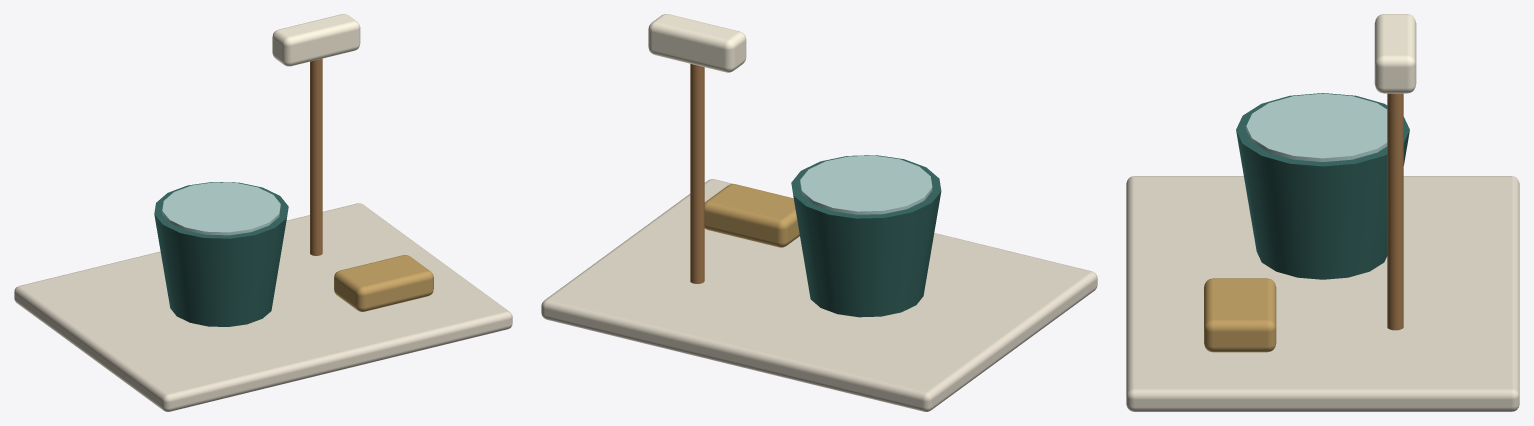
Rendered from work-cleaning.glb.
3 views of the same model, side by side, from view 1: azimuth 30°, elevation 25°; view 2: azimuth 150°, elevation 25°; view 3: azimuth 270°, elevation 25° (orthographic). The views are drawn at different scales.
Visible parts, largest first — view 1: display-plinth, wash-bucket, water, sponge, brush-head, brush-handle; view 2: display-plinth, wash-bucket, water, sponge, brush-head, brush-handle; view 3: display-plinth, wash-bucket, water, sponge, brush-handle, brush-head.
Boxes of the visible parts, box(x1,y1,x2,y2) form: display-plinth: box(14, 203, 512, 411); wash-bucket: box(154, 182, 288, 326); water: box(162, 182, 280, 235); sponge: box(334, 255, 433, 311); brush-head: box(272, 14, 360, 66); brush-handle: box(310, 58, 322, 255); display-plinth: box(541, 179, 1097, 411); wash-bucket: box(791, 155, 941, 317); water: box(800, 155, 932, 214); sponge: box(704, 184, 799, 247); brush-head: box(648, 14, 746, 72); brush-handle: box(690, 64, 704, 283); display-plinth: box(1126, 176, 1519, 411); wash-bucket: box(1236, 93, 1409, 279); water: box(1246, 93, 1387, 161); sponge: box(1204, 278, 1276, 352); brush-handle: box(1387, 93, 1403, 330); brush-head: box(1374, 14, 1416, 93).
Bounding box in the file's own units: 2.5 × 1.71 × 1.9.
